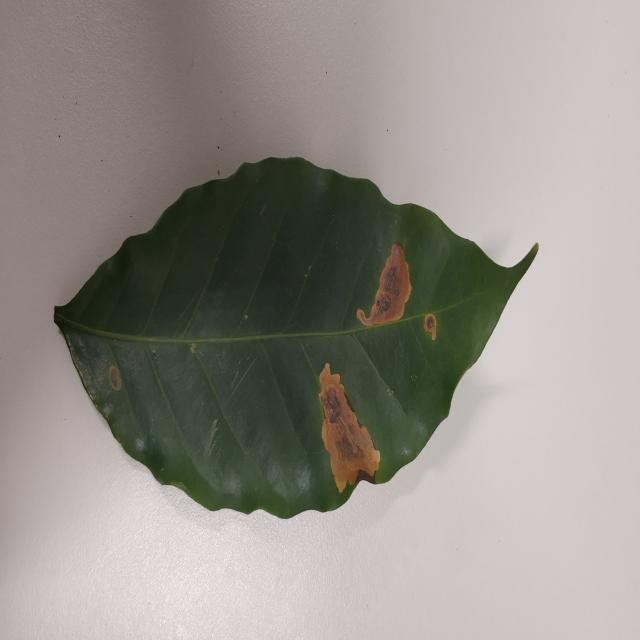Plaga-Minador: (52, 158, 539, 521)
